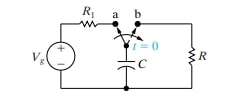capacitor: (111, 57, 138, 74)
dc: (46, 38, 77, 74)
resistor: (180, 43, 197, 69), (79, 17, 100, 32)
